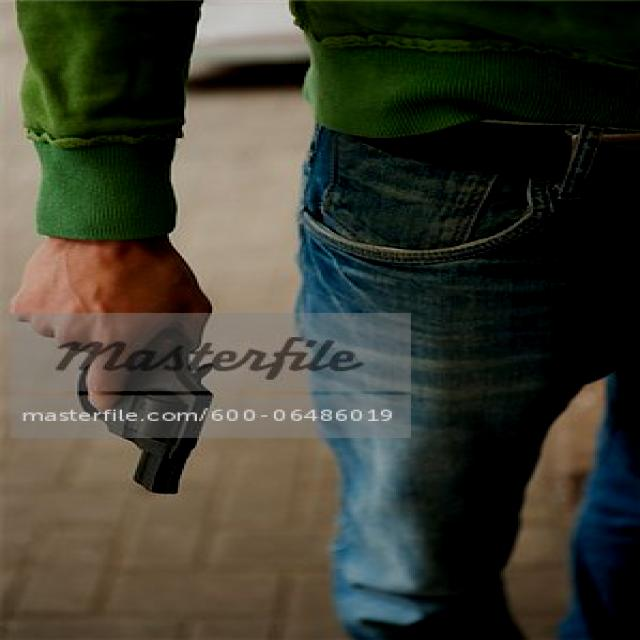pistol: (75, 300, 216, 496)
